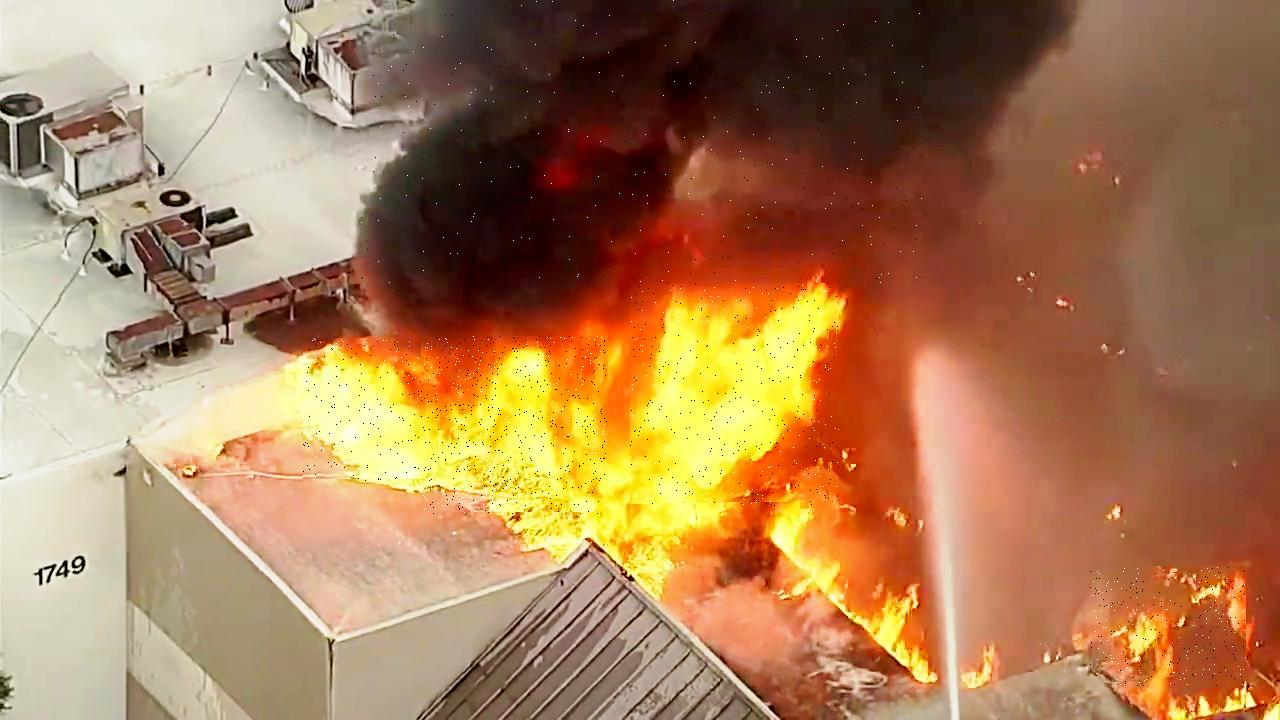fire: (630, 264, 839, 507), (423, 337, 607, 515), (304, 339, 473, 482), (1090, 567, 1246, 687)
smoke: (360, 0, 923, 283)
